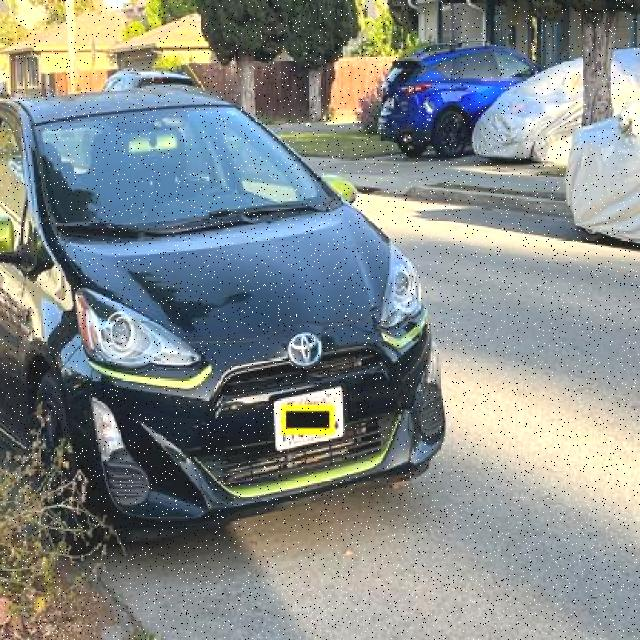licenseplate: (273, 387, 344, 451)
